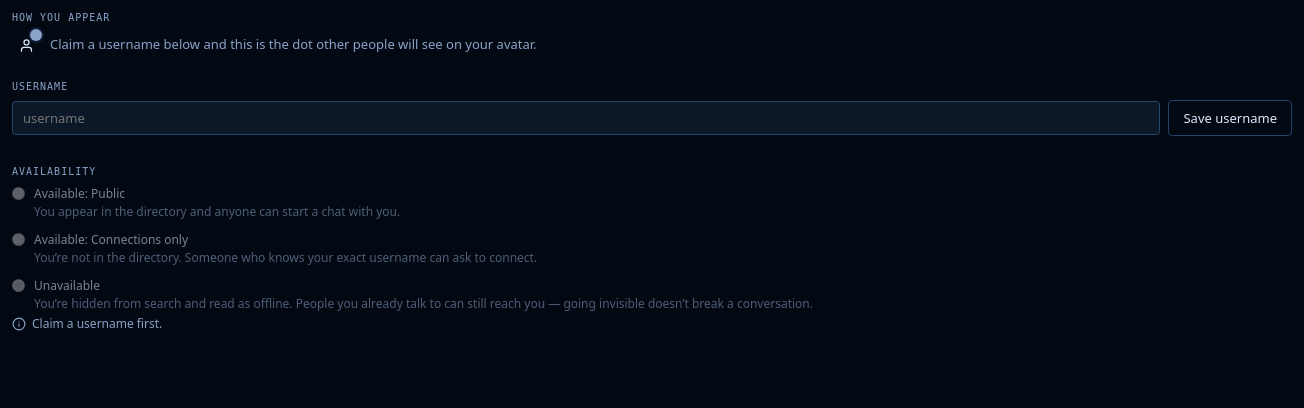
Test: SettingsChatPane — the server half may not be live yet › a 404 from the claim paints the calm not-available-yet line and does not throw
Type "ada_l" into the field with test id "chat-username-input" at (586, 118), box [12,101,1160,135]
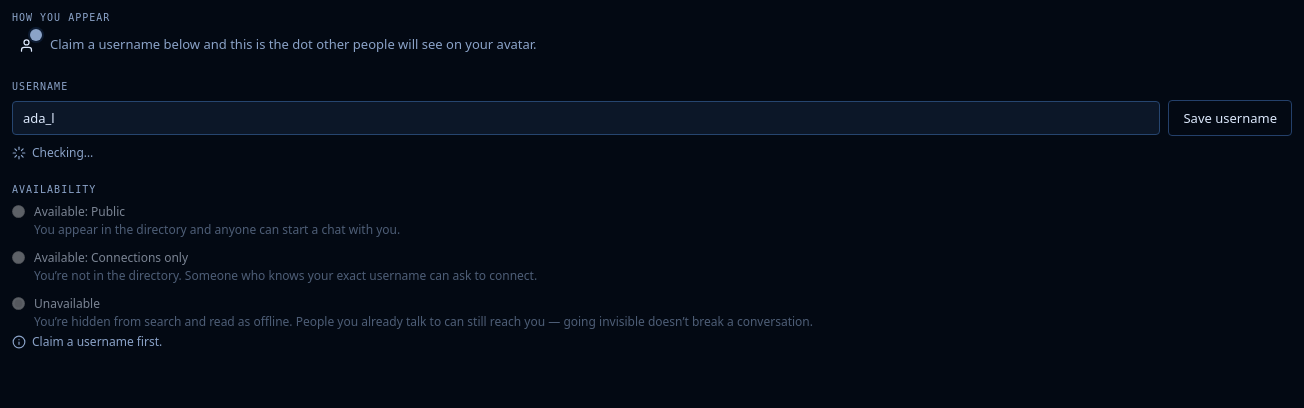
Click the button with test id "chat-username-save" at (1230, 118), box [1168,100,1292,136]
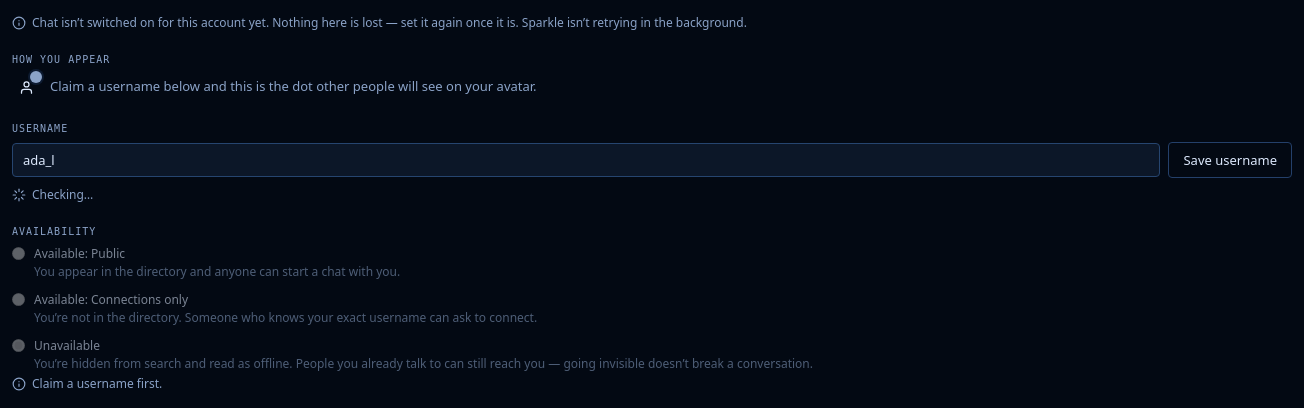
Expected: the button with test id "chat-username-save" is enabled, [1168,142,1292,178]
Now the element with test id "chat-not-live" is shown, box [12,14,747,31]
Now the element with test id "chat-not-live" shows "isn’t switched on", box [32,14,747,31]
